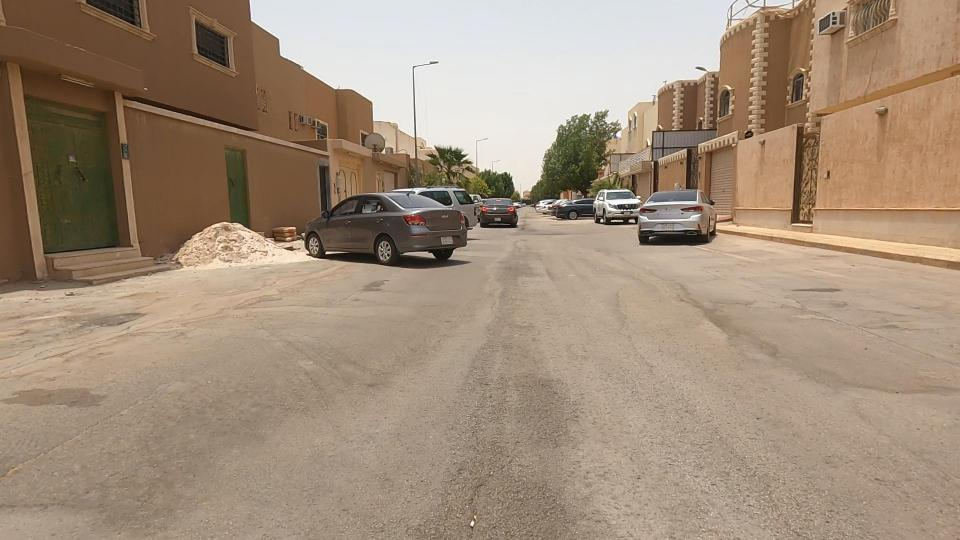SAND_ON_ROAD: (120, 183, 327, 315)
